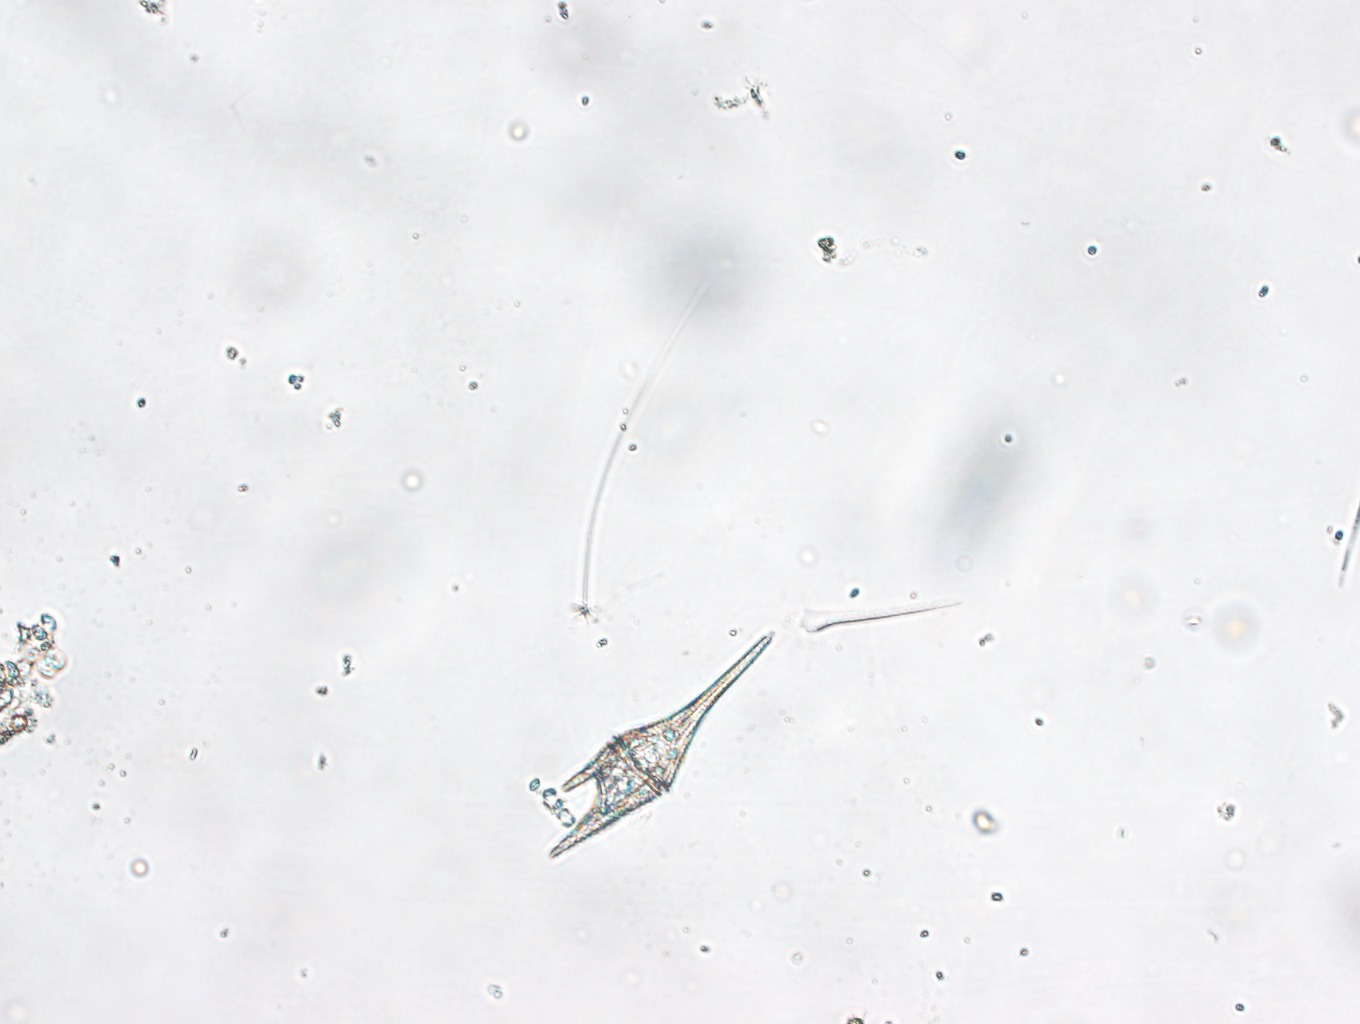ceratium furca: (539, 622, 789, 859)
